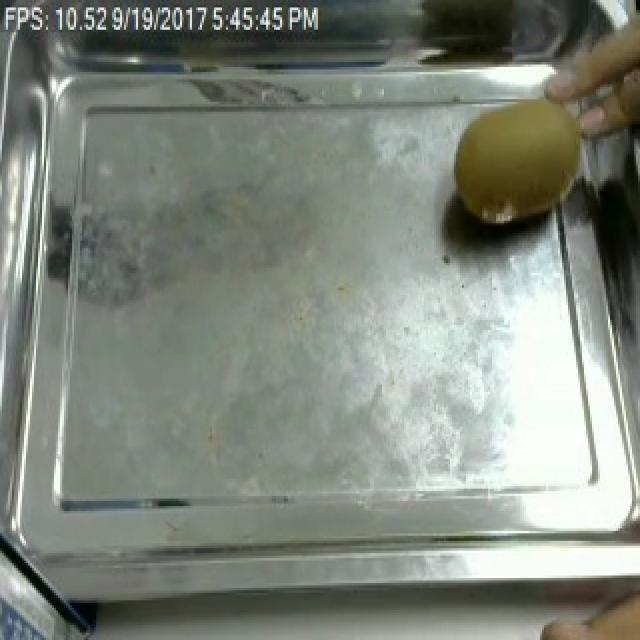Fruit: (440, 87, 612, 238), (524, 565, 640, 640)
